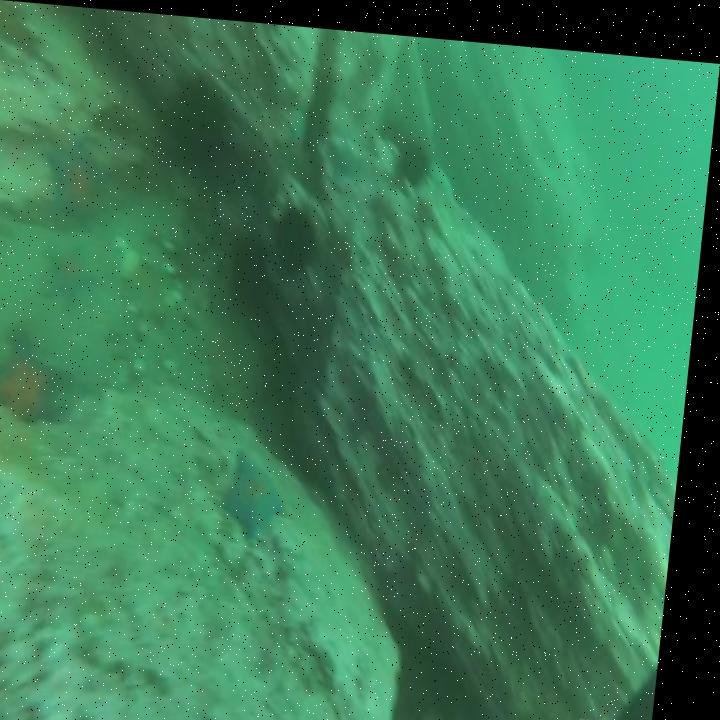echinus: (166, 66, 238, 175), (269, 187, 327, 280), (396, 128, 438, 184)
starfish: (0, 322, 80, 432), (39, 132, 121, 231), (226, 442, 304, 546), (40, 234, 106, 312)
